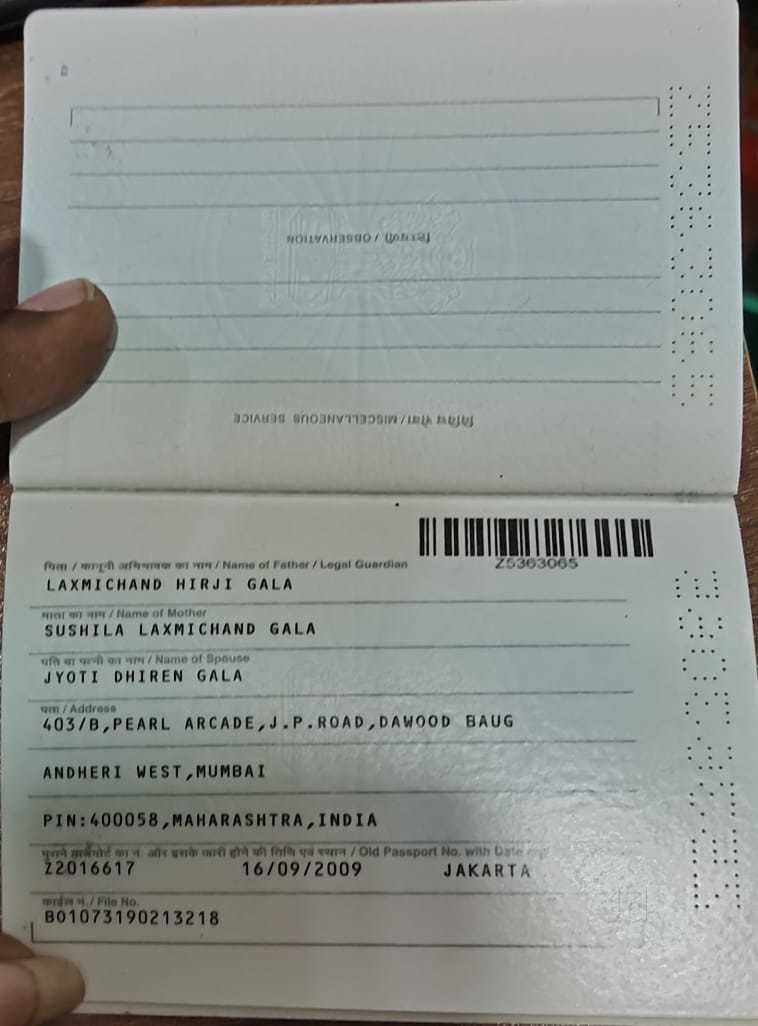File_no: (35, 903, 232, 941)
address: (30, 709, 535, 837)
father_name: (34, 568, 311, 600)
mother_name: (32, 614, 336, 650)
old_passport_details: (32, 850, 543, 891)
passport_no: (490, 554, 591, 573)
spouse_name: (30, 662, 265, 702)
